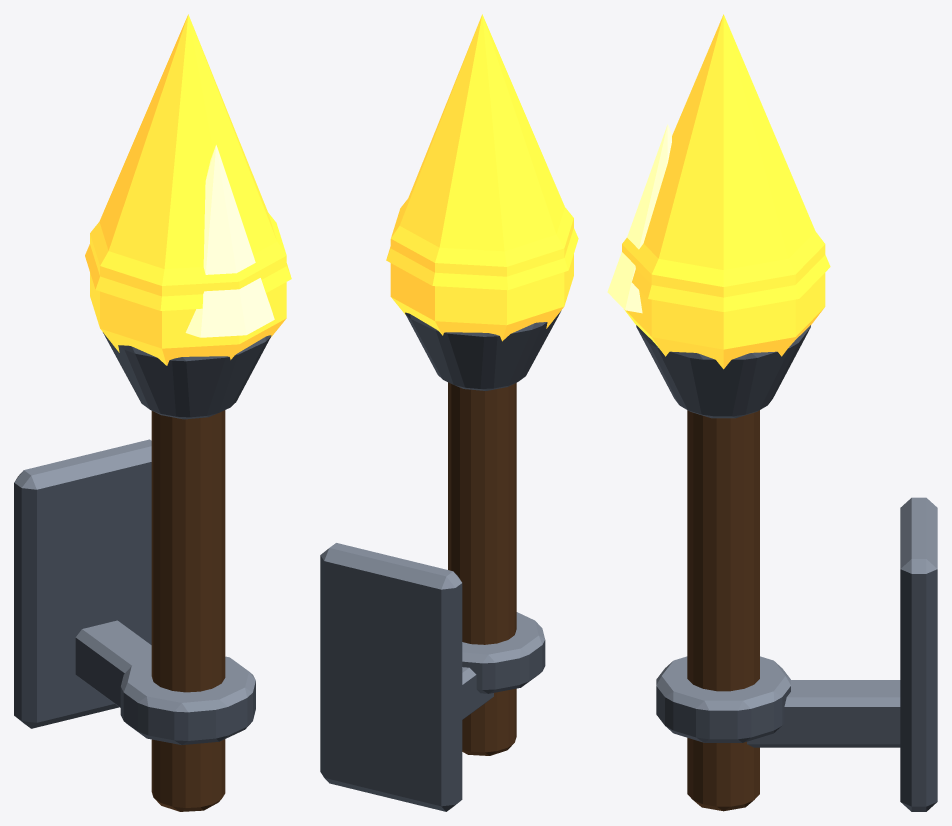
Rendered from tocha.fbx.
The picture shows the model from 3 angles, left to right: view 1: azimuth 30°, elevation 25°; view 2: azimuth 150°, elevation 25°; view 3: azimuth 270°, elevation 25°; orthographic projection. The views are drawn at different scales.
Visible parts, largest first — view 1: tocha; view 2: tocha; view 3: tocha.
Part boxes in pixels (box(x1,y1,x2,y2)): tocha: box(14, 14, 291, 811); tocha: box(320, 14, 578, 811); tocha: box(607, 14, 937, 811).
Bounding box in the file's own units: 23 × 93 × 35.5.
